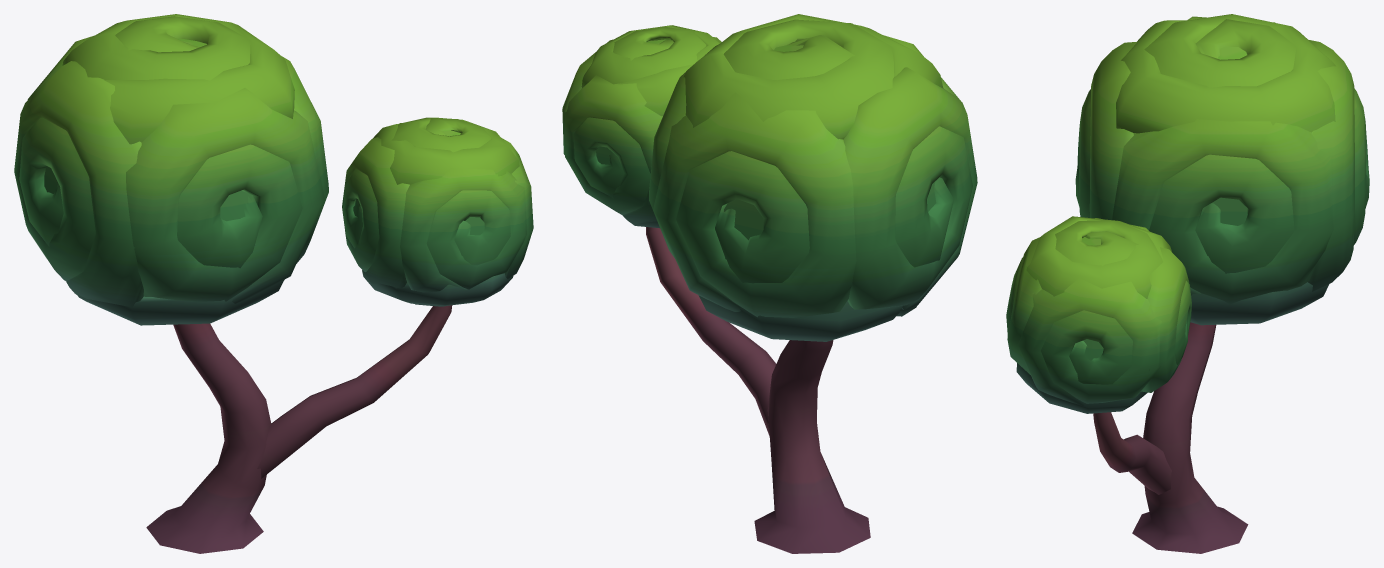
The model's file is Tree_27.fbx.
3 views of the same model, side by side, from view 1: azimuth 30°, elevation 25°; view 2: azimuth 150°, elevation 25°; view 3: azimuth 270°, elevation 25° (orthographic). The views are drawn at different scales.
Parts seen in each view (by area): view 1: Tree_27; view 2: Tree_27; view 3: Tree_27.
Part boxes in pixels (box(x1,y1,x2,y2)): Tree_27: box(14, 14, 533, 553); Tree_27: box(562, 14, 977, 553); Tree_27: box(1006, 14, 1369, 553).
Bounding box in the file's own units: 480 × 541 × 366.
